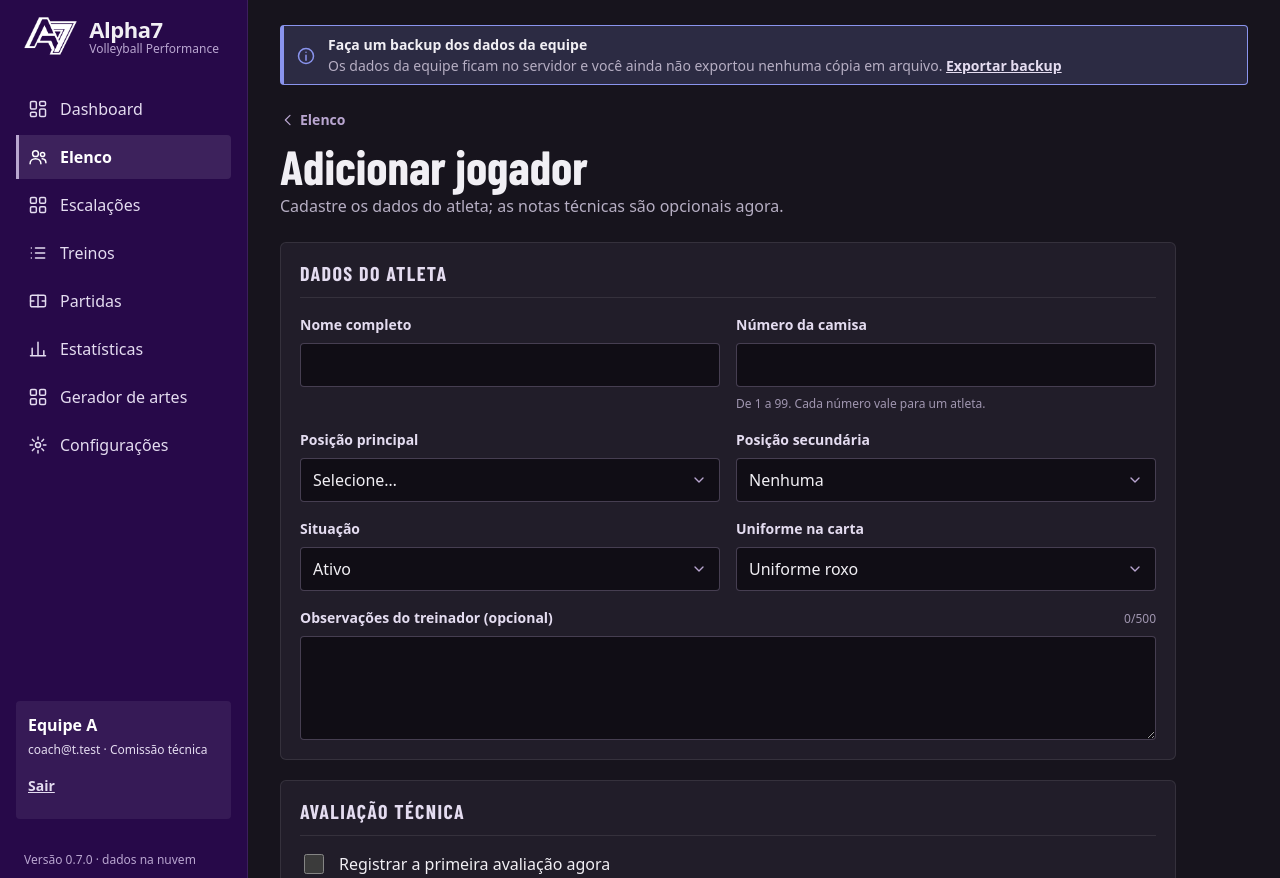
Test case: Interface com dados na nuvem › o formulário barra camisa repetida com a regra do domínio, sem falar com o servidor
The image size is (1280, 878).
Step 1. Type "Rui Teixeira" into the field labelled "Nome completo" → point(510, 365), box x1=300 y1=343 x2=720 y2=387
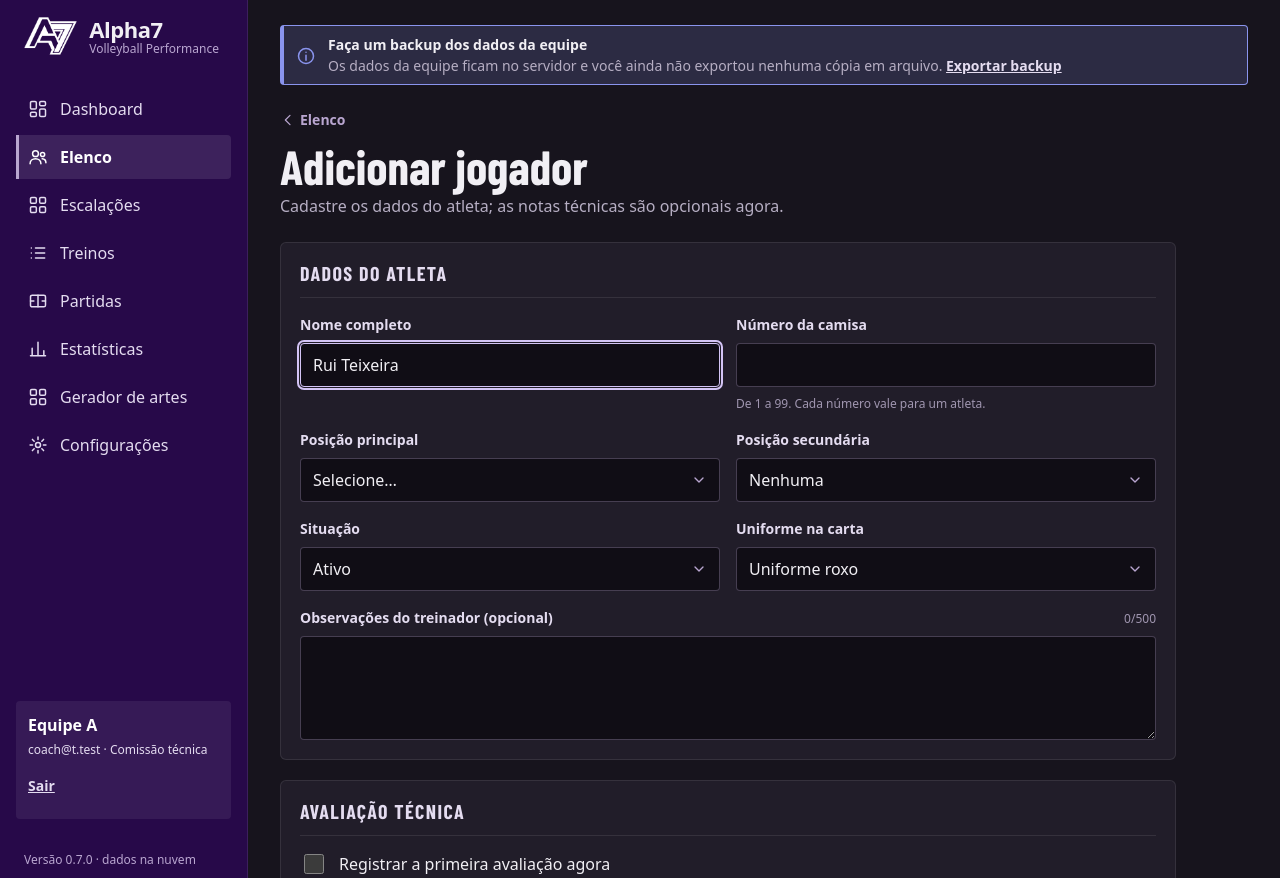
Step 2. Type "1" into the field labelled "Número da camisa" → point(946, 365), box x1=736 y1=343 x2=1156 y2=387
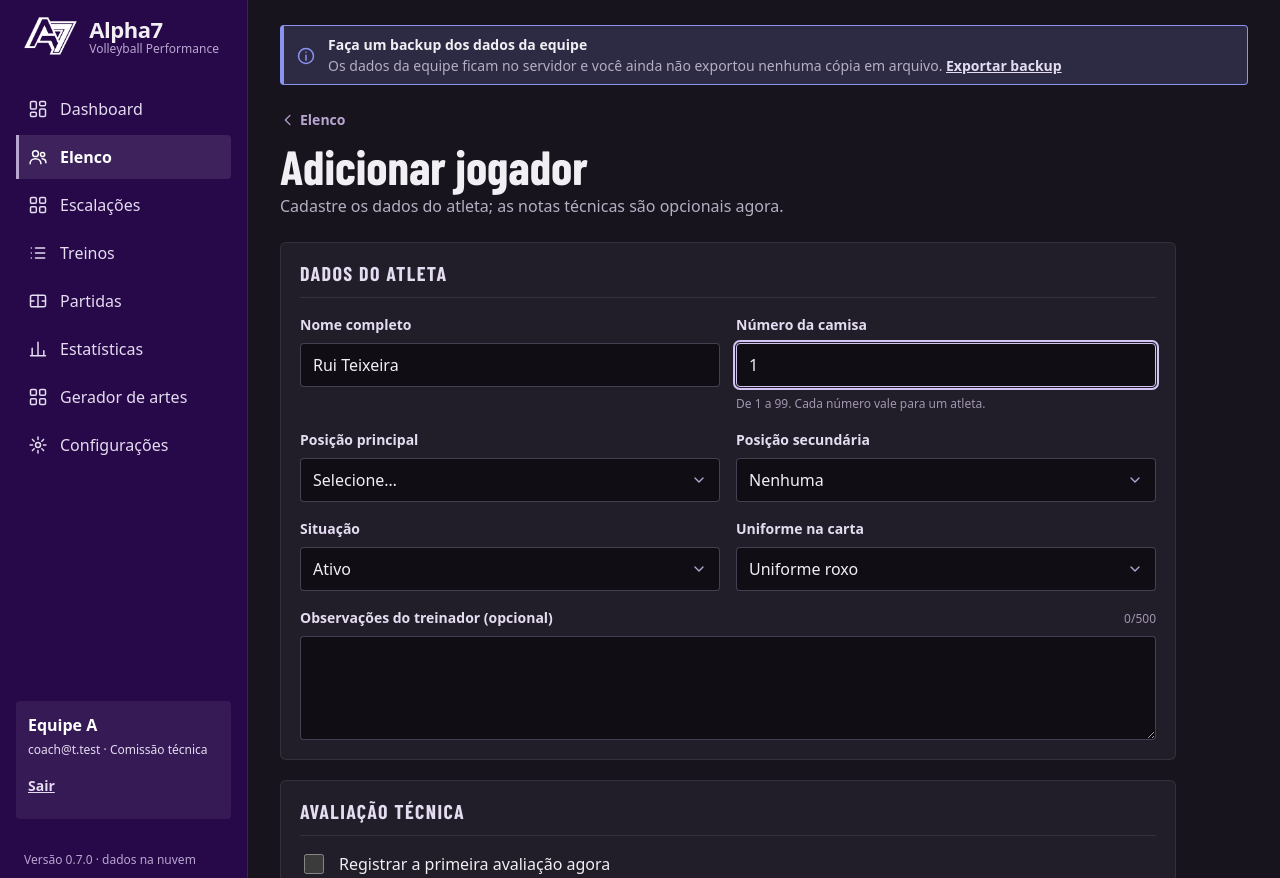
Step 3. Select "Oposto" in the dropdown labelled "Posição principal" → point(510, 480), box x1=300 y1=458 x2=720 y2=502
(page scrolled)
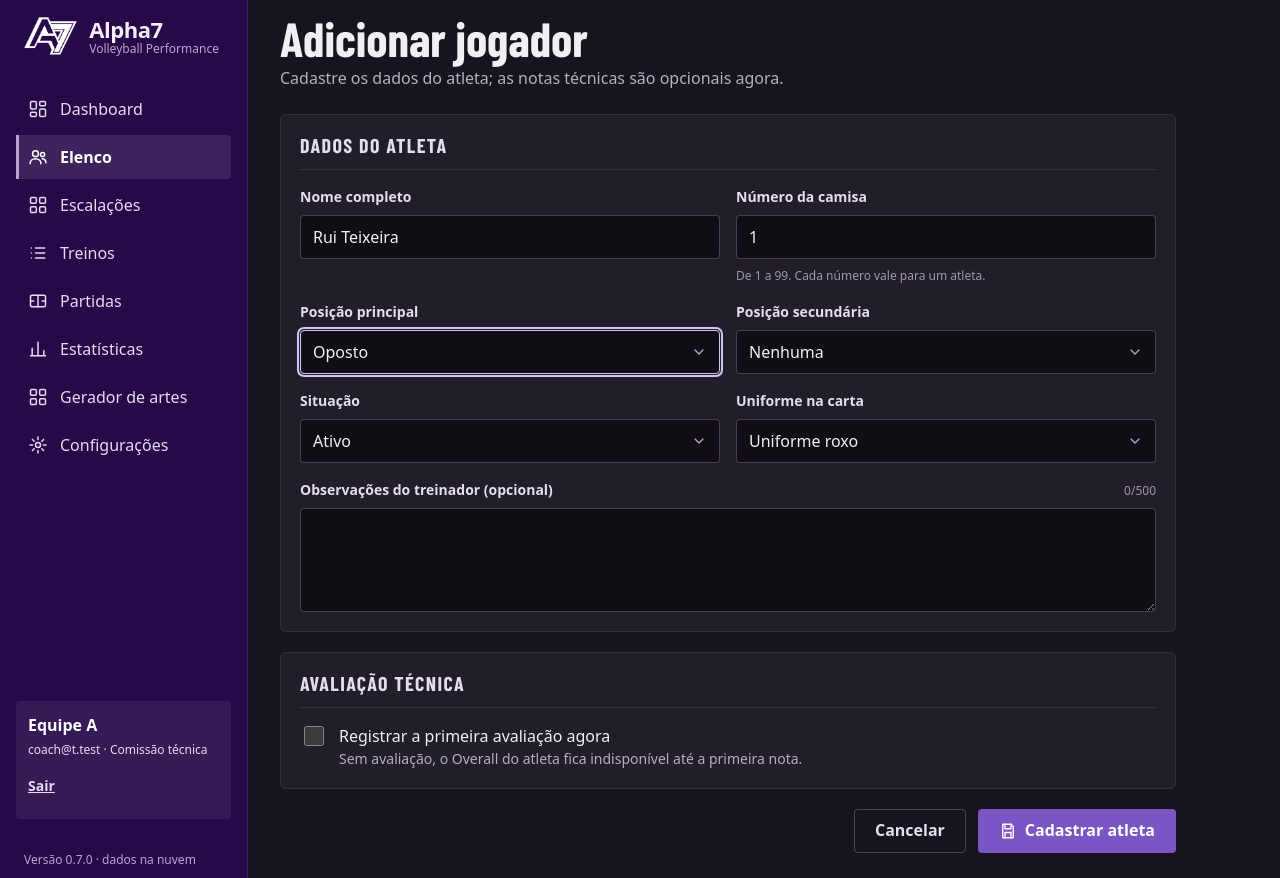
Step 4. Click the button "Cadastrar atleta" → point(1077, 831), box x1=978 y1=809 x2=1176 y2=853
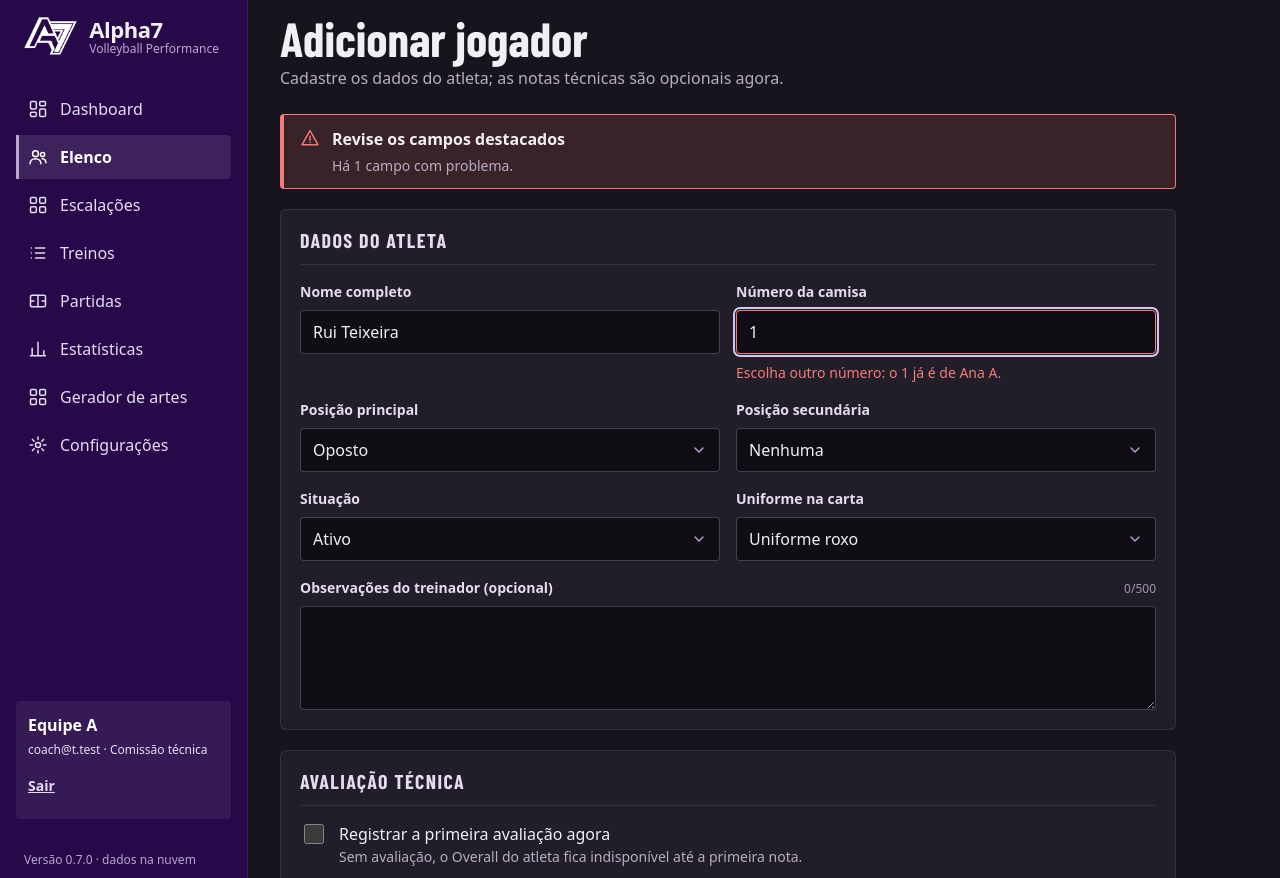
Expected: the text "Escolha outro número: o 1 já é de Ana A." is shown, x1=736 y1=363 x2=1001 y2=382
